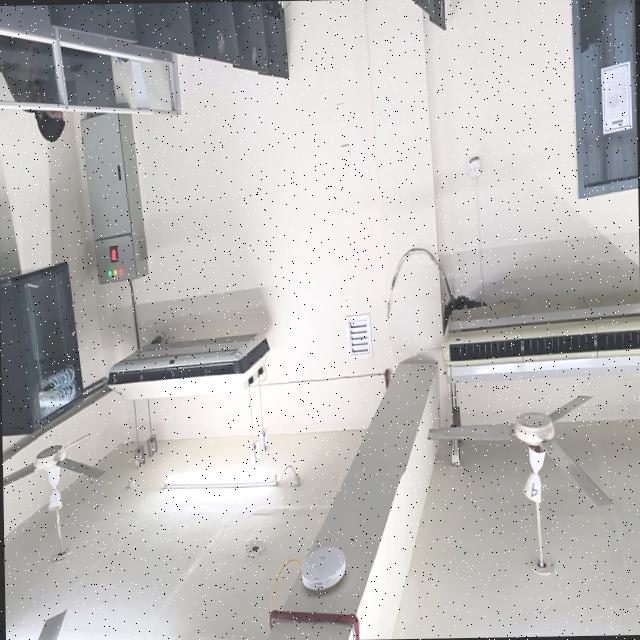Ac: (442, 302, 640, 383), (107, 333, 270, 399), (48, 3, 137, 41)
Light: (163, 465, 303, 488)
Monitor: (48, 3, 137, 41), (133, 2, 195, 54), (189, 1, 239, 65), (231, 1, 267, 71), (258, 1, 289, 78), (236, 18, 259, 50), (426, 0, 446, 30), (417, 0, 434, 18)
